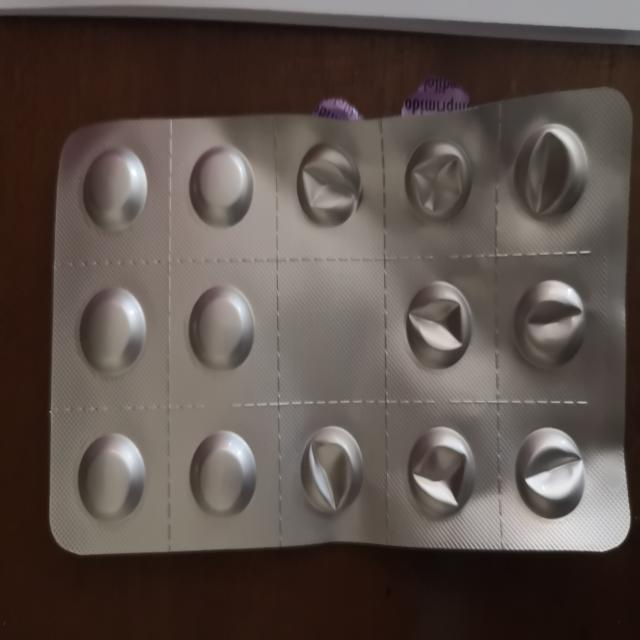Empty: (507, 116, 598, 228), (398, 417, 480, 522), (400, 274, 478, 378), (510, 422, 590, 522), (294, 416, 366, 525), (516, 273, 589, 376), (292, 143, 372, 234), (397, 132, 474, 226)
Pill: (72, 422, 152, 534), (70, 280, 156, 380), (182, 422, 263, 527), (182, 276, 259, 376), (75, 144, 150, 236), (185, 138, 257, 233)
